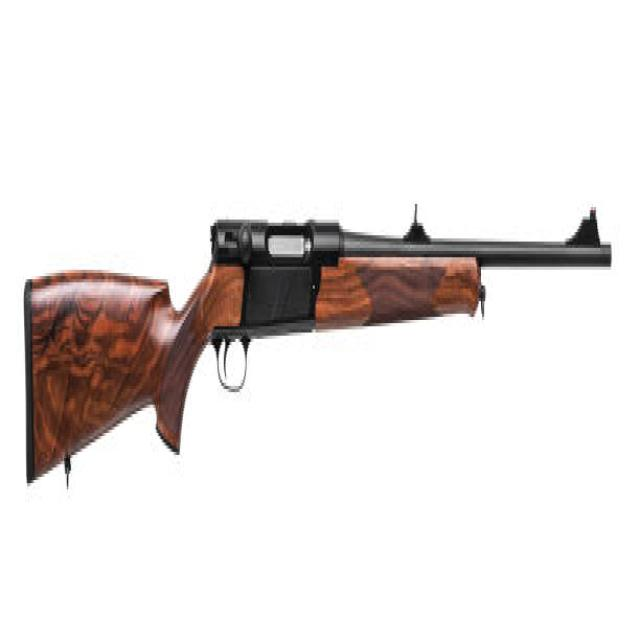rifle: (21, 165, 618, 493)
